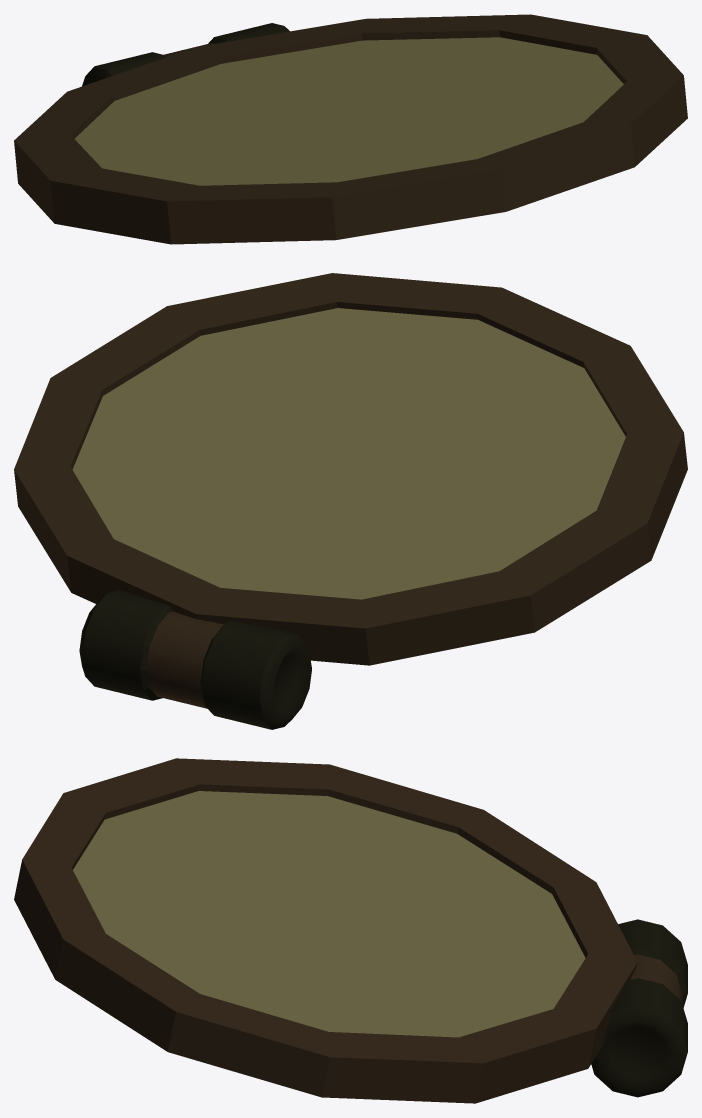
Rendered from OBJ_Porte_Tuyau.fbx.
3 renders of one model, top to bottom at view 1: azimuth 30°, elevation 25°; view 2: azimuth 150°, elevation 25°; view 3: azimuth 270°, elevation 25°, orthographic.
Parts seen in each view (by area): view 1: Object; view 2: Object; view 3: Object.
Part boxes in pixels (bbox=[...]): Object: bbox=[14, 14, 687, 244]; Object: bbox=[14, 273, 687, 729]; Object: bbox=[14, 758, 687, 1103].
Bounding box in the file's own units: 720 × 223 × 700.
